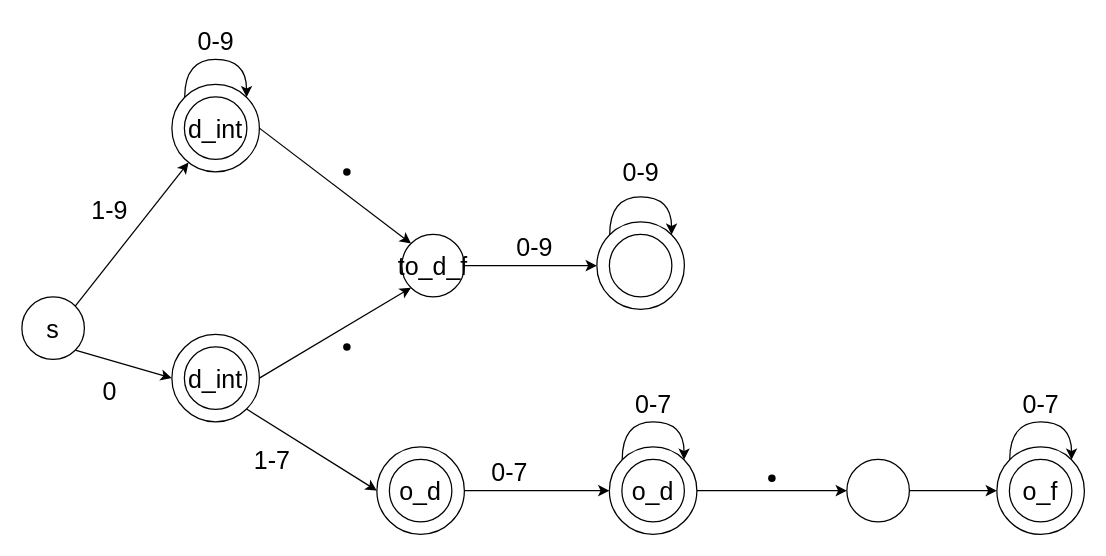
This 1106x556 diagram has some shape labels left out. Here are the shapes that lost their labels. From the top down, the box of each, then its label:
(608, 233, 672, 297): d_f
(846, 458, 909, 522): to_o_f
